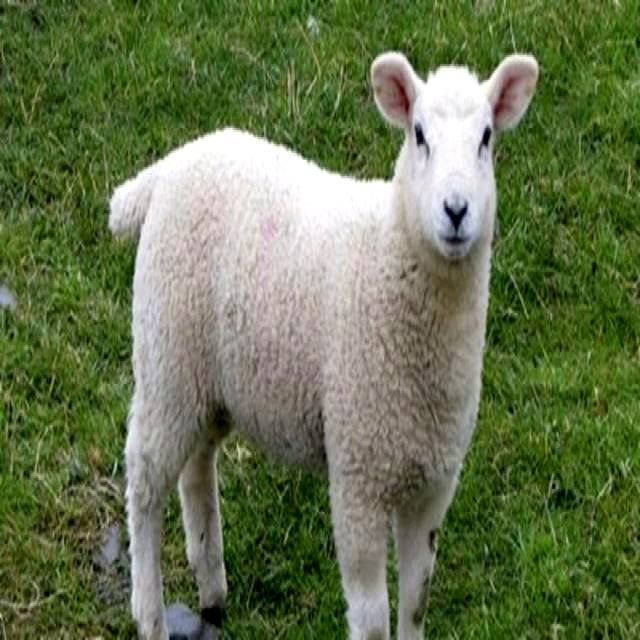sheep: (107, 50, 541, 638)
